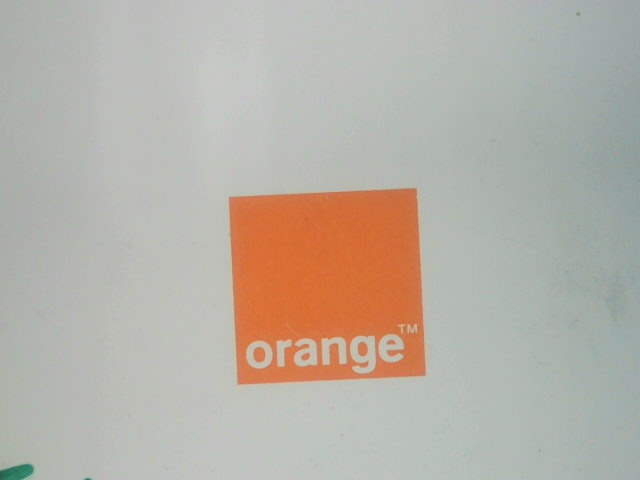AR_Orange: (224, 185, 438, 389)
